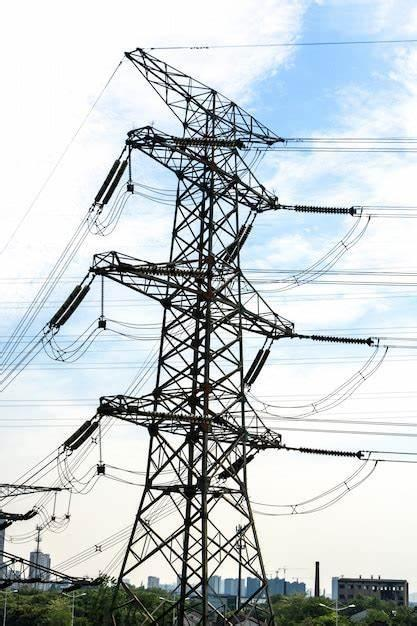power_tower: (83, 49, 275, 624)
